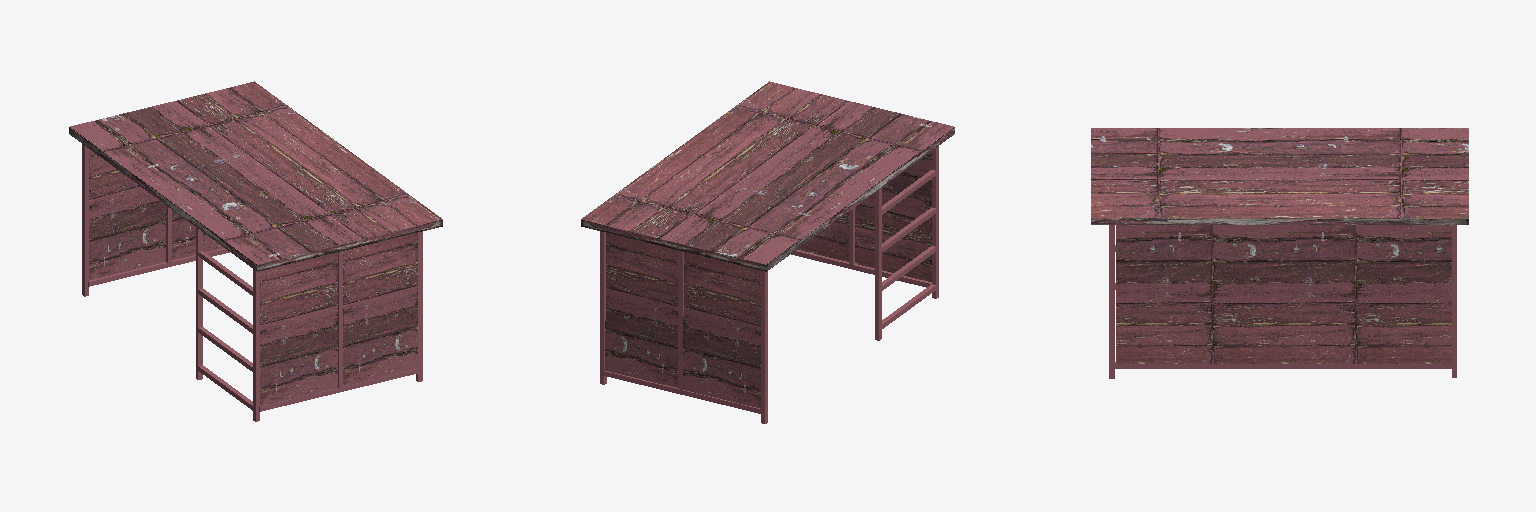
3 renders of one model, left to right at view 1: azimuth 30°, elevation 25°; view 2: azimuth 150°, elevation 25°; view 3: azimuth 270°, elevation 25°, orthographic.
Parts seen in each view (by area): view 1: Escritorio:polySurface20; view 2: Escritorio:polySurface20; view 3: Escritorio:polySurface20.
Boxes of the visible parts, x1,y1,x2,y2 form: Escritorio:polySurface20: [69, 81, 442, 421]; Escritorio:polySurface20: [581, 81, 954, 423]; Escritorio:polySurface20: [1091, 128, 1468, 378].
Size of the model in its own units: 5.65 by 4.8 by 9.92.
5 materials, 4 textured.